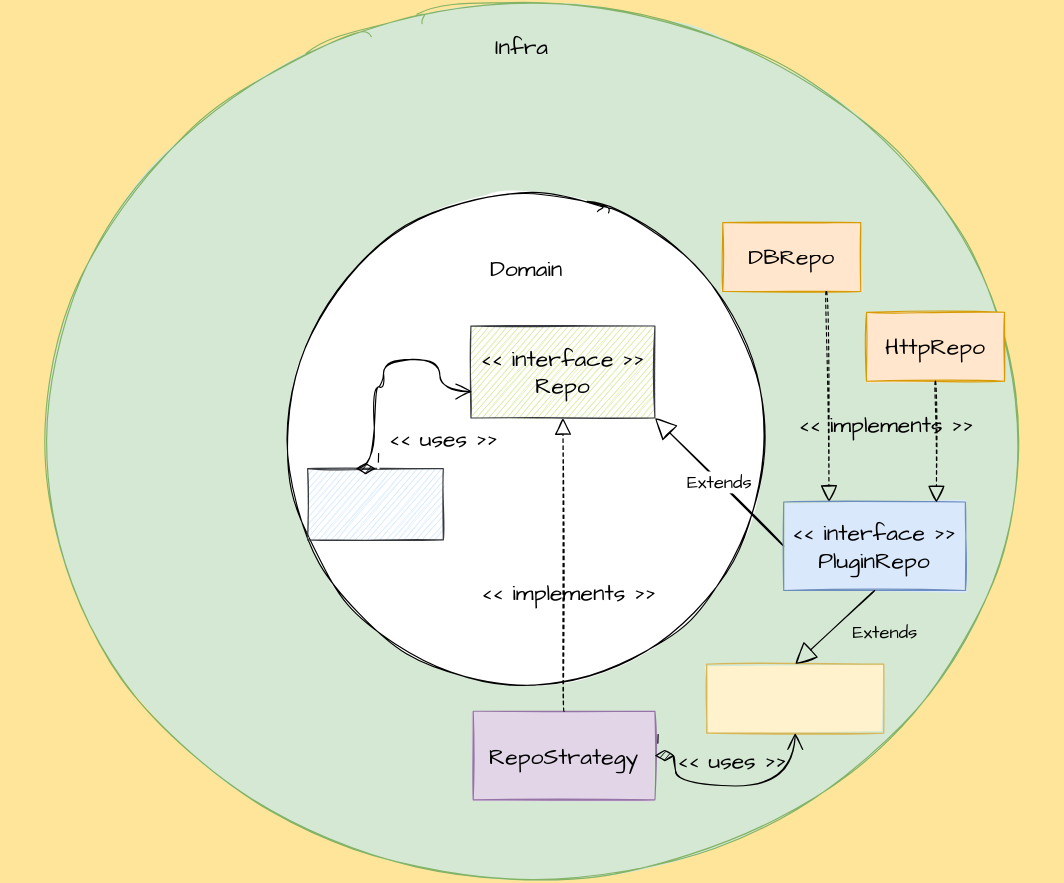
Image size: 1064x883. Some labels were removed from this diagram. Here are the shapes that lost their labels. From the top down, the box of each, then its label:
(306, 467, 443, 540): Port
(706, 663, 884, 733): << interface >> Spring Plugin
